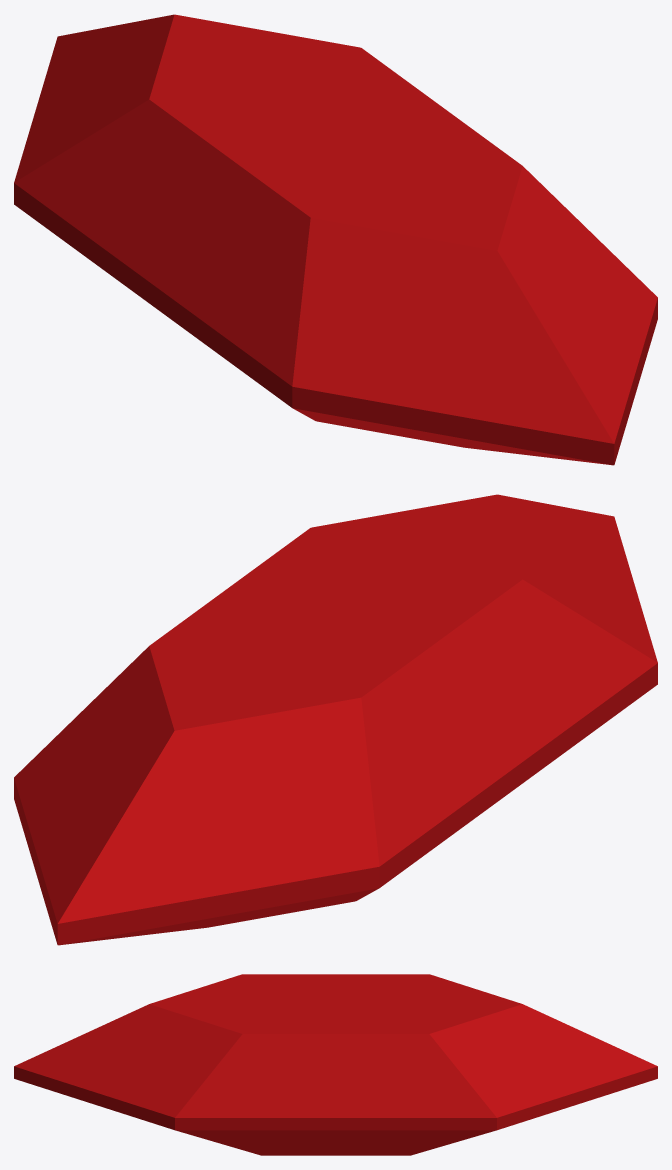
File: item_7item200.glb
3 views of the same model, one above another, from view 1: azimuth 30°, elevation 25°; view 2: azimuth 150°, elevation 25°; view 3: azimuth 270°, elevation 25° (orthographic). The views are drawn at different scales.
Parts seen in each view (by area): view 1: props_7item200; view 2: props_7item200; view 3: props_7item200.
Part boxes in pixels (box(x1,y1,x2,y2)): props_7item200: box(14, 14, 657, 465); props_7item200: box(14, 494, 657, 945); props_7item200: box(14, 974, 657, 1155).
Bounding box in the file's own units: 0.4295 × 0.2484 × 1.13.
